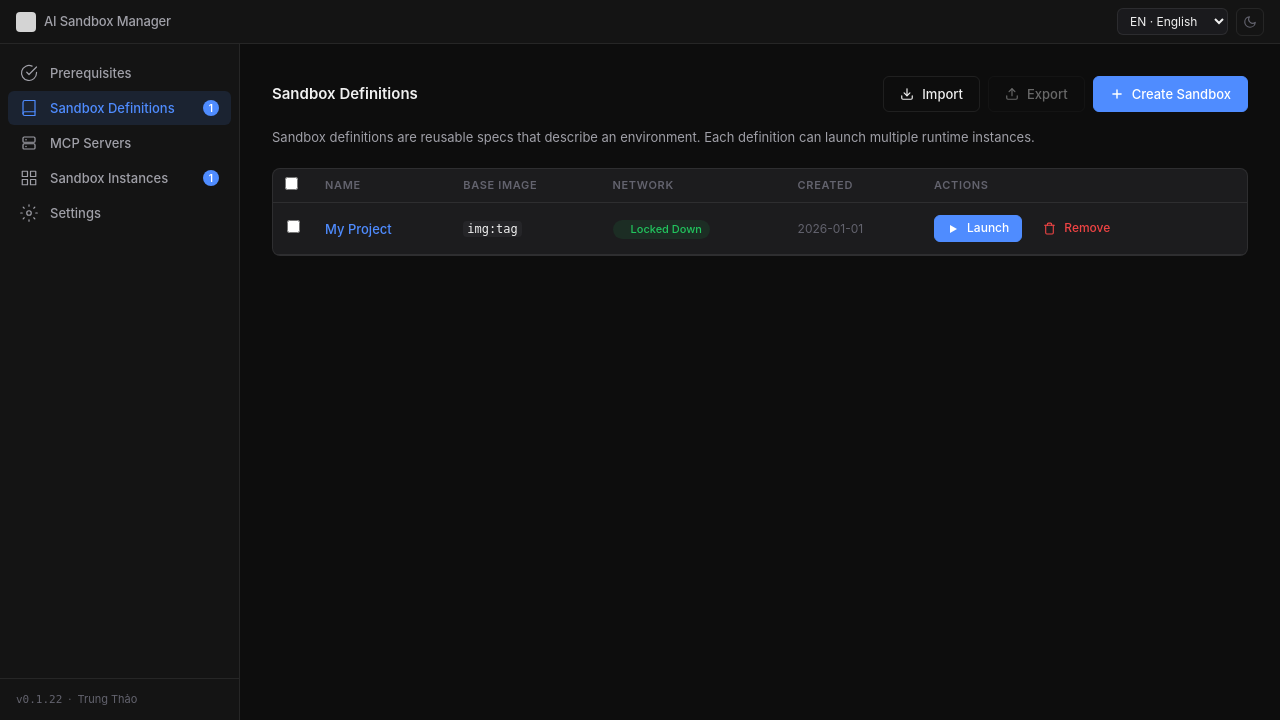
Test: App launch & lifecycle wiring › launches directly (no sign-in nudge) even when Claude has no credential
The image size is (1280, 720).
Click the button "Launch": point(978, 229) [934, 215, 1022, 242]
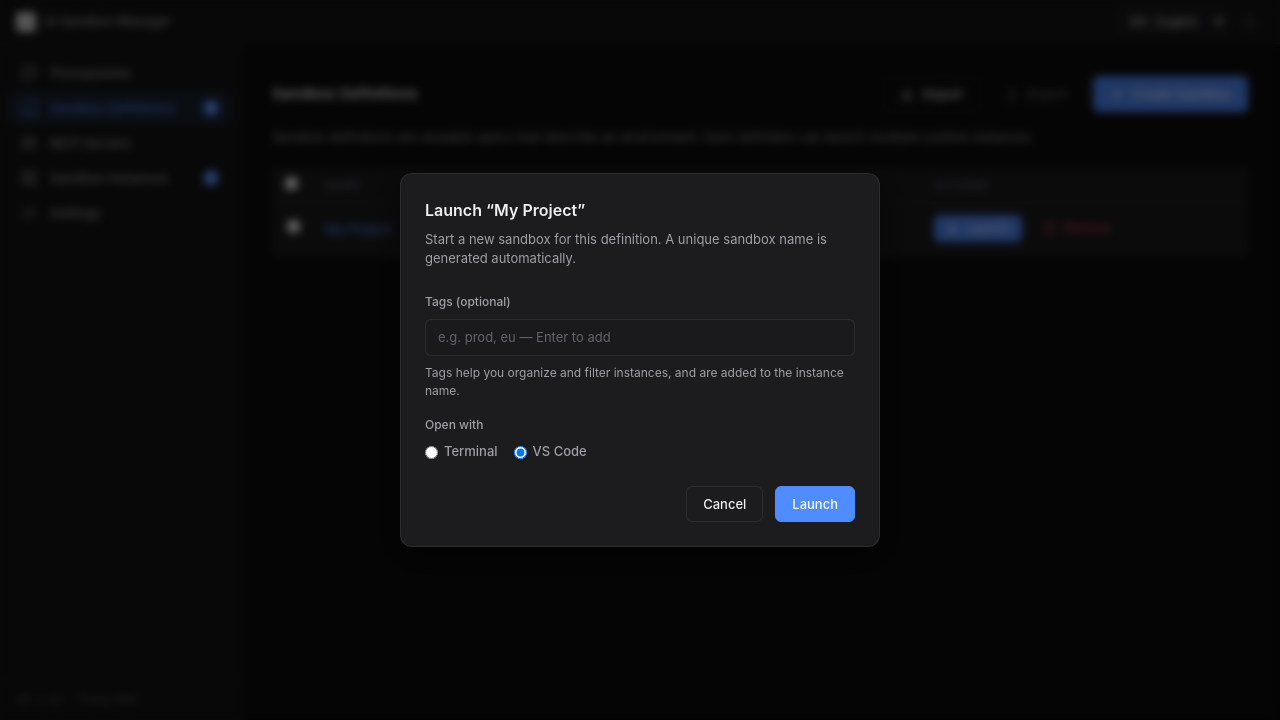
Result: the dialog is shown
